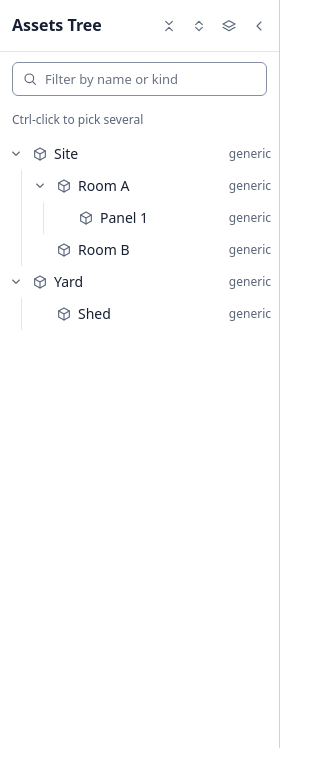
the Delete button of the pick bar › goes with the last pick (Clear)
Step 1. Click the link "Room A" → (104, 186), box [78,176,129,195]
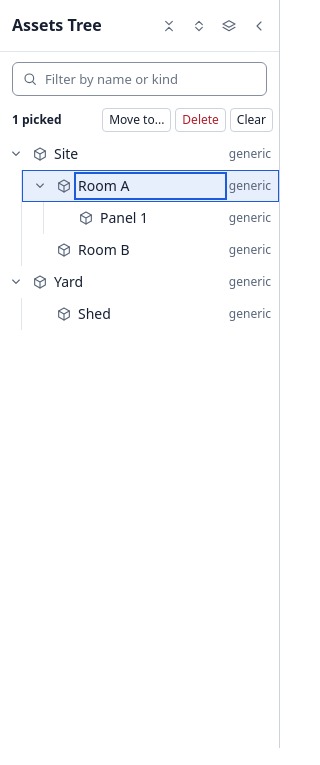
Now the button with aria-label "Delete the " is shown, box [175,108,226,132]
Step 2. Click the button "Clear" → (251, 120), box [230,108,273,132]
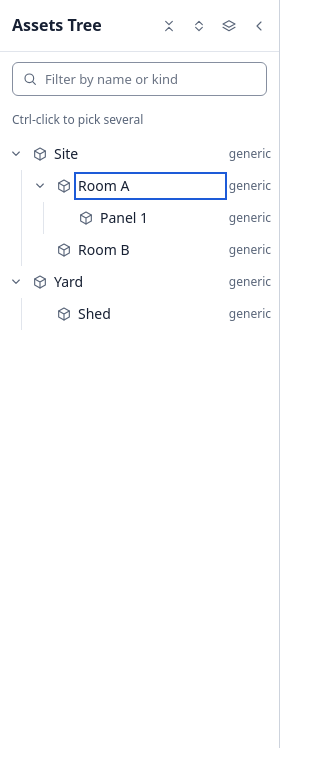
Now the button "Delete" is gone
